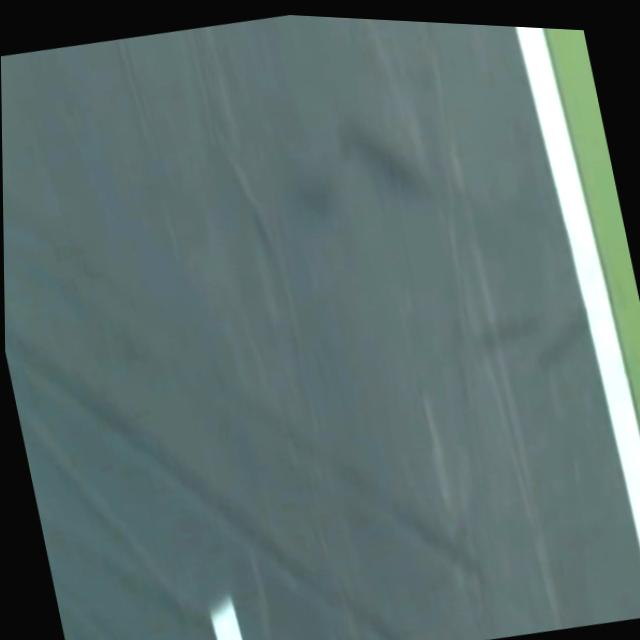center: (210, 597, 242, 640)
right: (514, 27, 640, 552)
